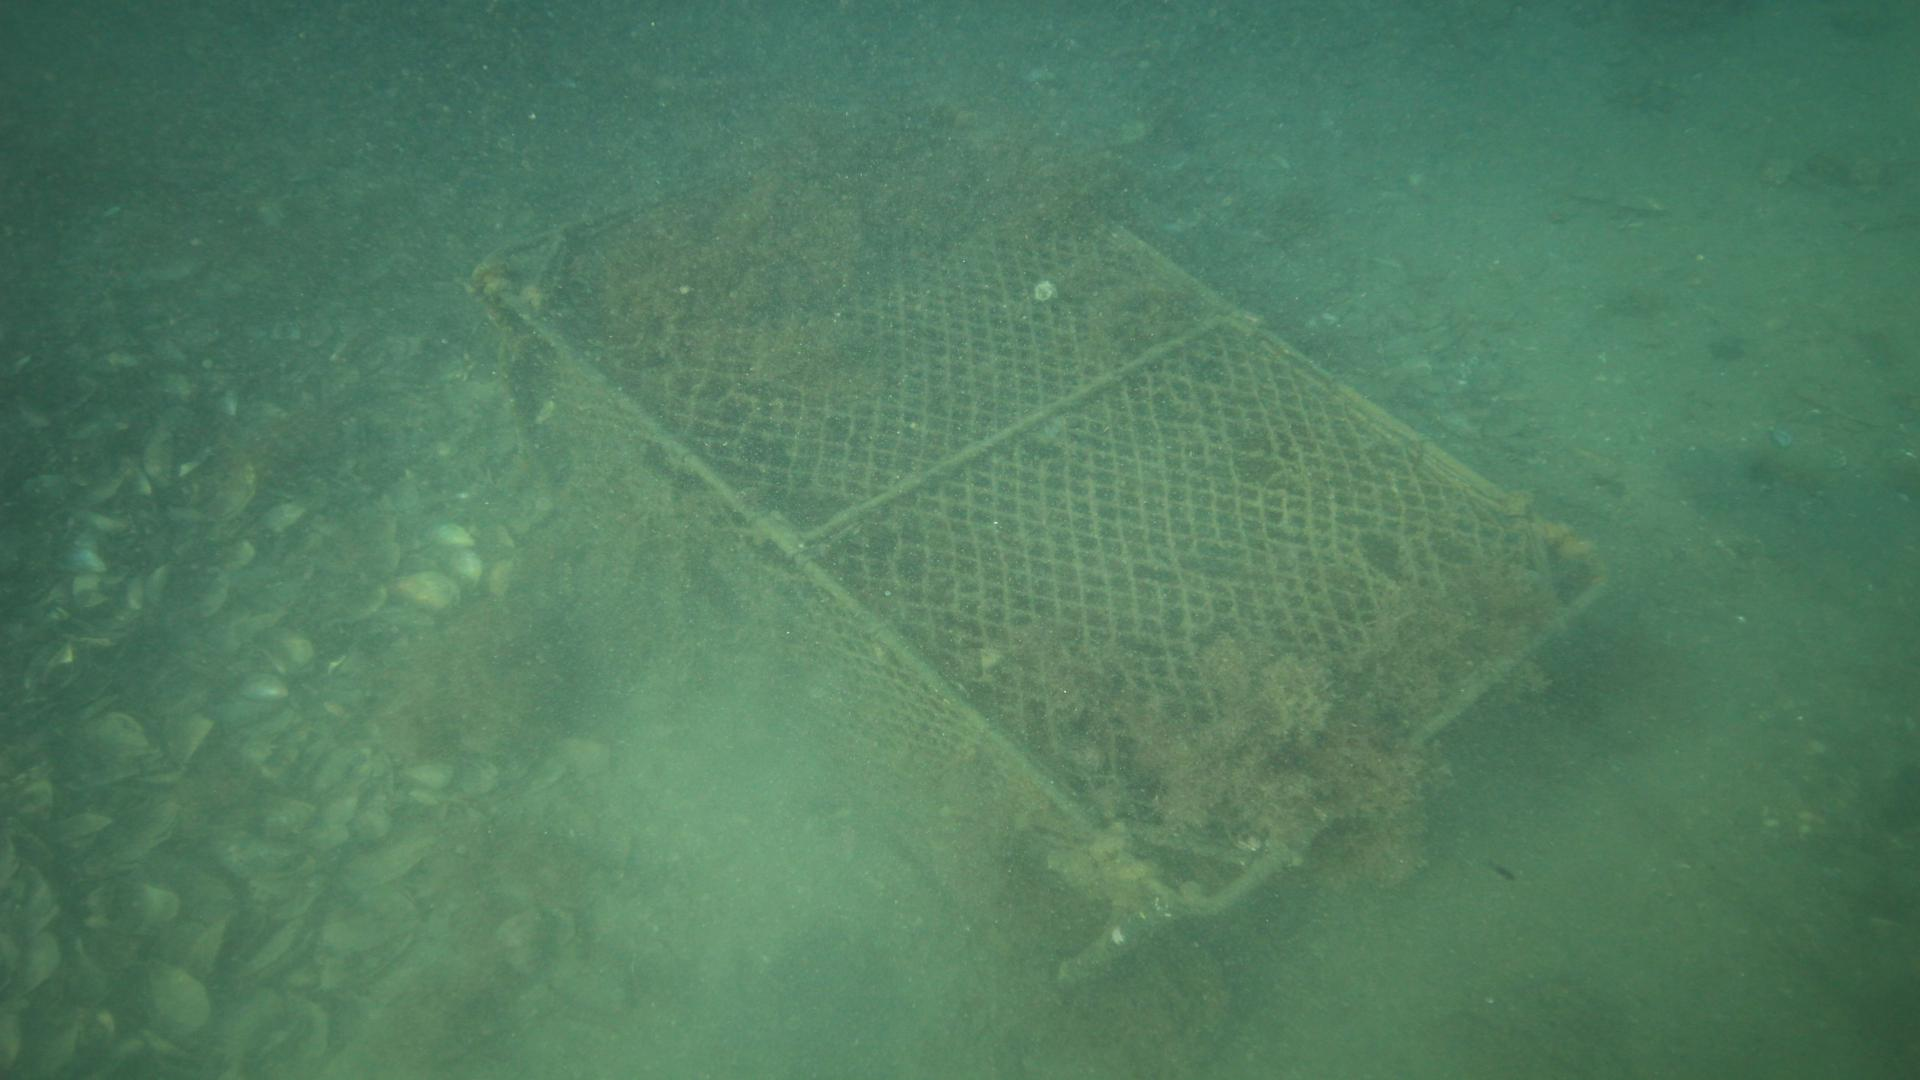rectangular fish trap: (473, 175, 1617, 990)
